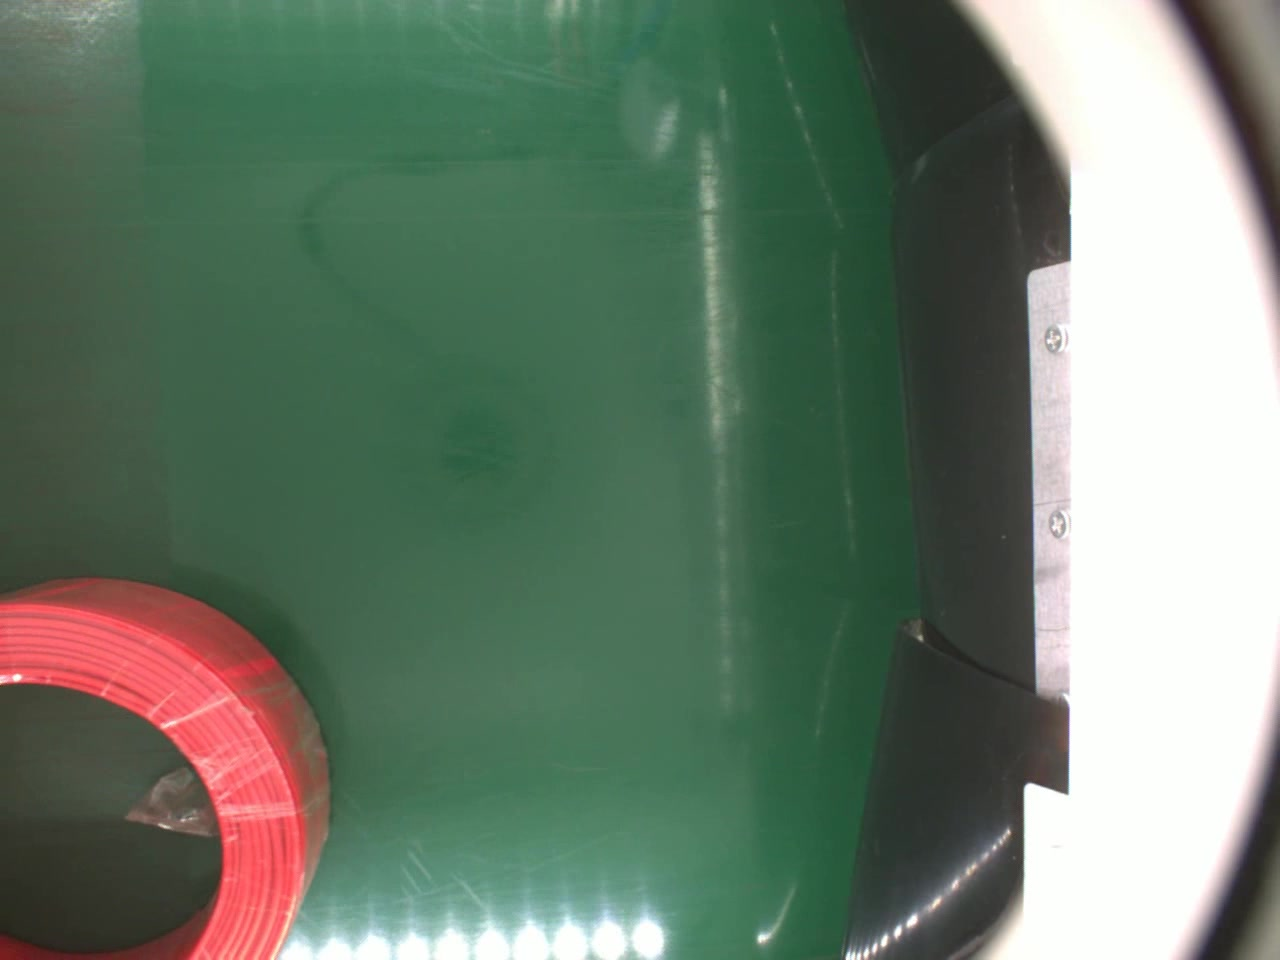red: (0, 574, 334, 960)
